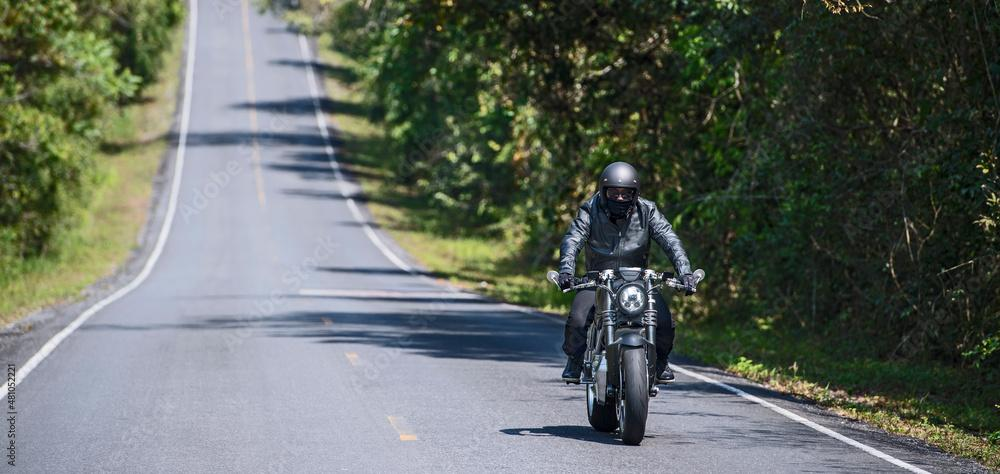helmet: (598, 161, 641, 216)
